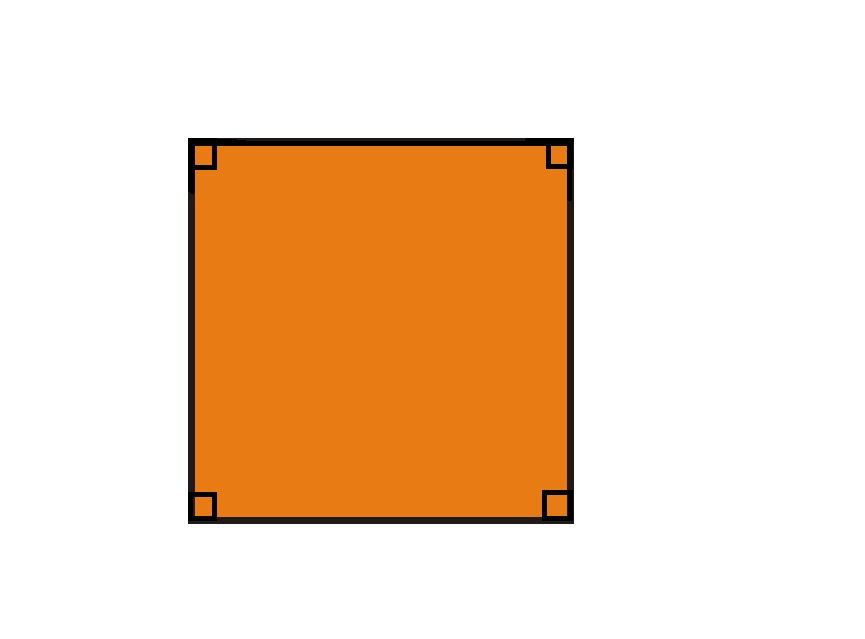cuadrado: (187, 137, 576, 525)
